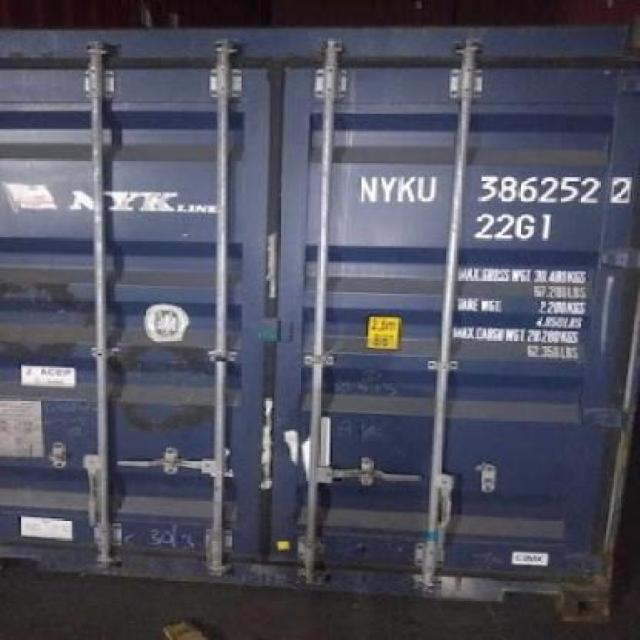ISO: (472, 212, 552, 244)
container_number: (352, 171, 636, 211)
